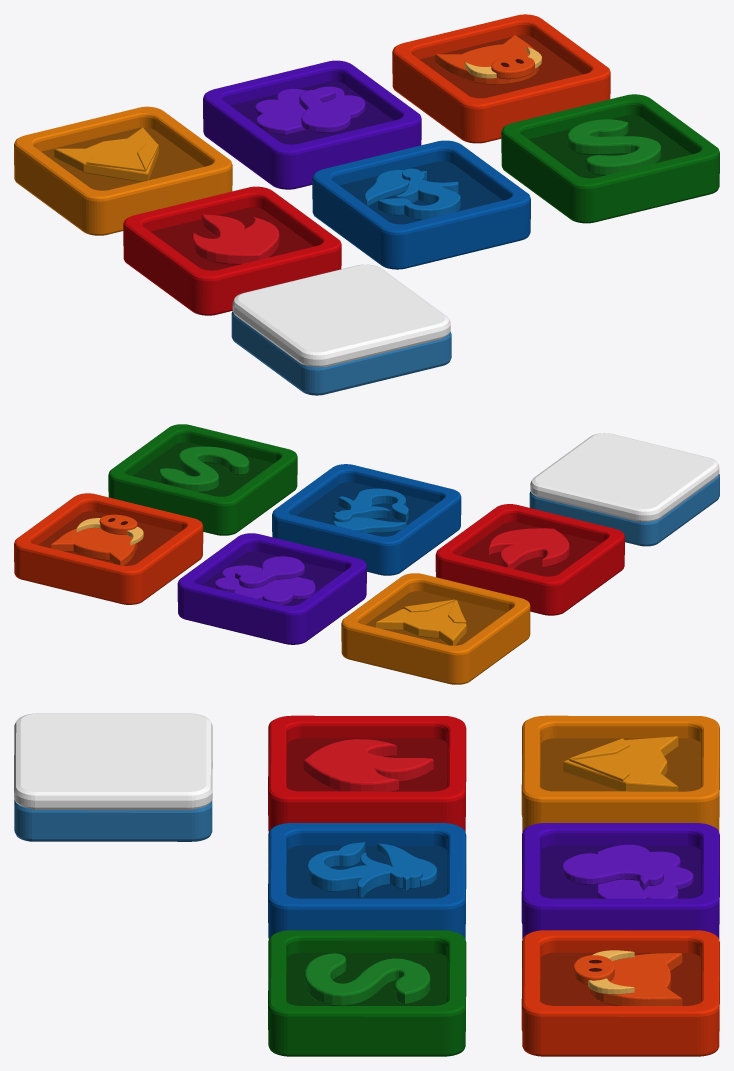
File: all-seven-tiles.obj
3 views of the same model, one above another, from view 1: azimuth 30°, elevation 25°; view 2: azimuth 150°, elevation 25°; view 3: azimuth 270°, elevation 25° (orthographic). The views are drawn at different scales.
Visible parts, largest first — view 1: snow_frost_cap, fox_rounded_rim, boar_rounded_rim, peacock_rounded_rim, siren_rounded_rim, lava_rounded_rim, serpent_rounded_rim, snow_ice_base, serpent_snake, lava_flame, siren_base, serpent_base (+17 smaller); view 2: snow_frost_cap, fox_rounded_rim, siren_rounded_rim, lava_rounded_rim, peacock_rounded_rim, serpent_rounded_rim, boar_rounded_rim, snow_ice_base, serpent_snake, fox_base, lava_flame, peacock_base (+17 smaller); view 3: snow_frost_cap, serpent_rounded_rim, boar_rounded_rim, peacock_rounded_rim, siren_rounded_rim, lava_rounded_rim, fox_rounded_rim, snow_ice_base, lava_flame, serpent_snake, serpent_recess, fox_recess (+14 smaller).
Boxes of the visible parts, x1=… form: snow_frost_cap: x1=232, y1=264, x2=450, y2=367; fox_rounded_rim: x1=14, y1=106, x2=232, y2=220; boar_rounded_rim: x1=392, y1=14, x2=610, y2=128; peacock_rounded_rim: x1=203, y1=60, x2=421, y2=174; siren_rounded_rim: x1=312, y1=140, x2=530, y2=254; lava_rounded_rim: x1=123, y1=186, x2=341, y2=300; serpent_rounded_rim: x1=501, y1=94, x2=719, y2=208; snow_ice_base: x1=231, y1=311, x2=451, y2=395; serpent_snake: x1=567, y1=119, x2=660, y2=175; lava_flame: x1=192, y1=214, x2=279, y2=264; siren_base: x1=312, y1=200, x2=530, y2=269; serpent_base: x1=501, y1=154, x2=719, y2=223; snow_frost_cap: x1=530, y1=433, x2=719, y2=521; fox_rounded_rim: x1=341, y1=573, x2=530, y2=671; siren_rounded_rim: x1=272, y1=464, x2=461, y2=562; lava_rounded_rim: x1=435, y1=504, x2=624, y2=602; peacock_rounded_rim: x1=177, y1=533, x2=366, y2=631; serpent_rounded_rim: x1=108, y1=424, x2=297, y2=522; boar_rounded_rim: x1=14, y1=493, x2=203, y2=591; snow_ice_base: x1=529, y1=473, x2=719, y2=546; serpent_snake: x1=159, y1=446, x2=249, y2=492; fox_base: x1=341, y1=625, x2=530, y2=684; lava_flame: x1=489, y1=528, x2=569, y2=569; peacock_base: x1=178, y1=585, x2=366, y2=644; snow_frost_cap: x1=14, y1=713, x2=212, y2=810; serpent_rounded_rim: x1=268, y1=930, x2=466, y2=1039; boar_rounded_rim: x1=521, y1=930, x2=719, y2=1039; peacock_rounded_rim: x1=521, y1=823, x2=719, y2=931; siren_rounded_rim: x1=268, y1=823, x2=466, y2=931; lava_rounded_rim: x1=268, y1=715, x2=466, y2=823; fox_rounded_rim: x1=521, y1=715, x2=719, y2=823; snow_ice_base: x1=14, y1=799, x2=212, y2=841; lava_flame: x1=303, y1=739, x2=433, y2=791; serpent_snake: x1=304, y1=953, x2=430, y2=1005; serpent_recess: x1=286, y1=952, x2=447, y2=1005; fox_recess: x1=540, y1=738, x2=701, y2=791.
Bounding box in the file's own units: 3.56 × 0.282 × 3.56.
